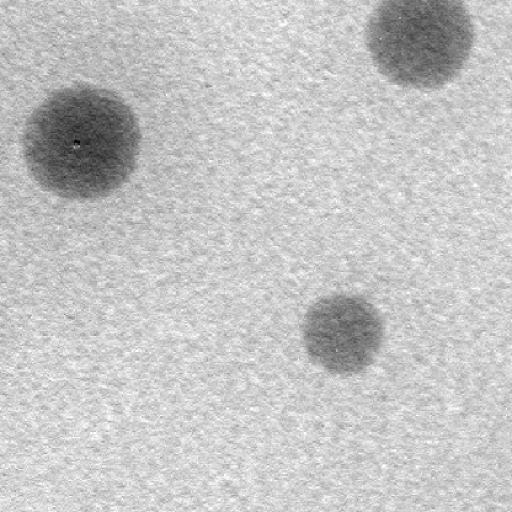Nanoparticles: (20, 84, 143, 200), (364, 0, 476, 89), (298, 290, 386, 375)
